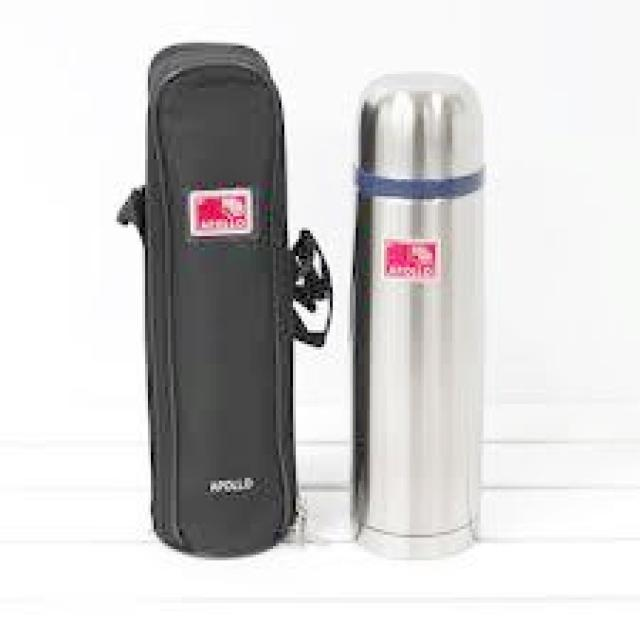bottle: (338, 64, 495, 562)
